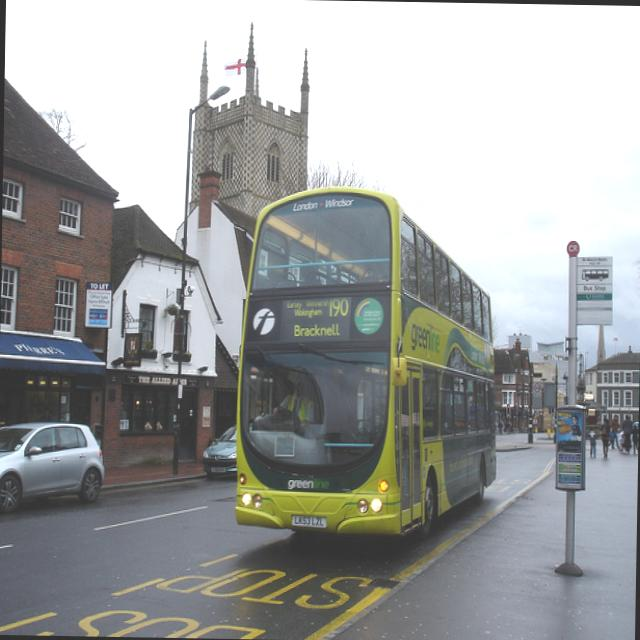Vehicle: (235, 180, 503, 546), (0, 420, 105, 512), (201, 424, 237, 481)
